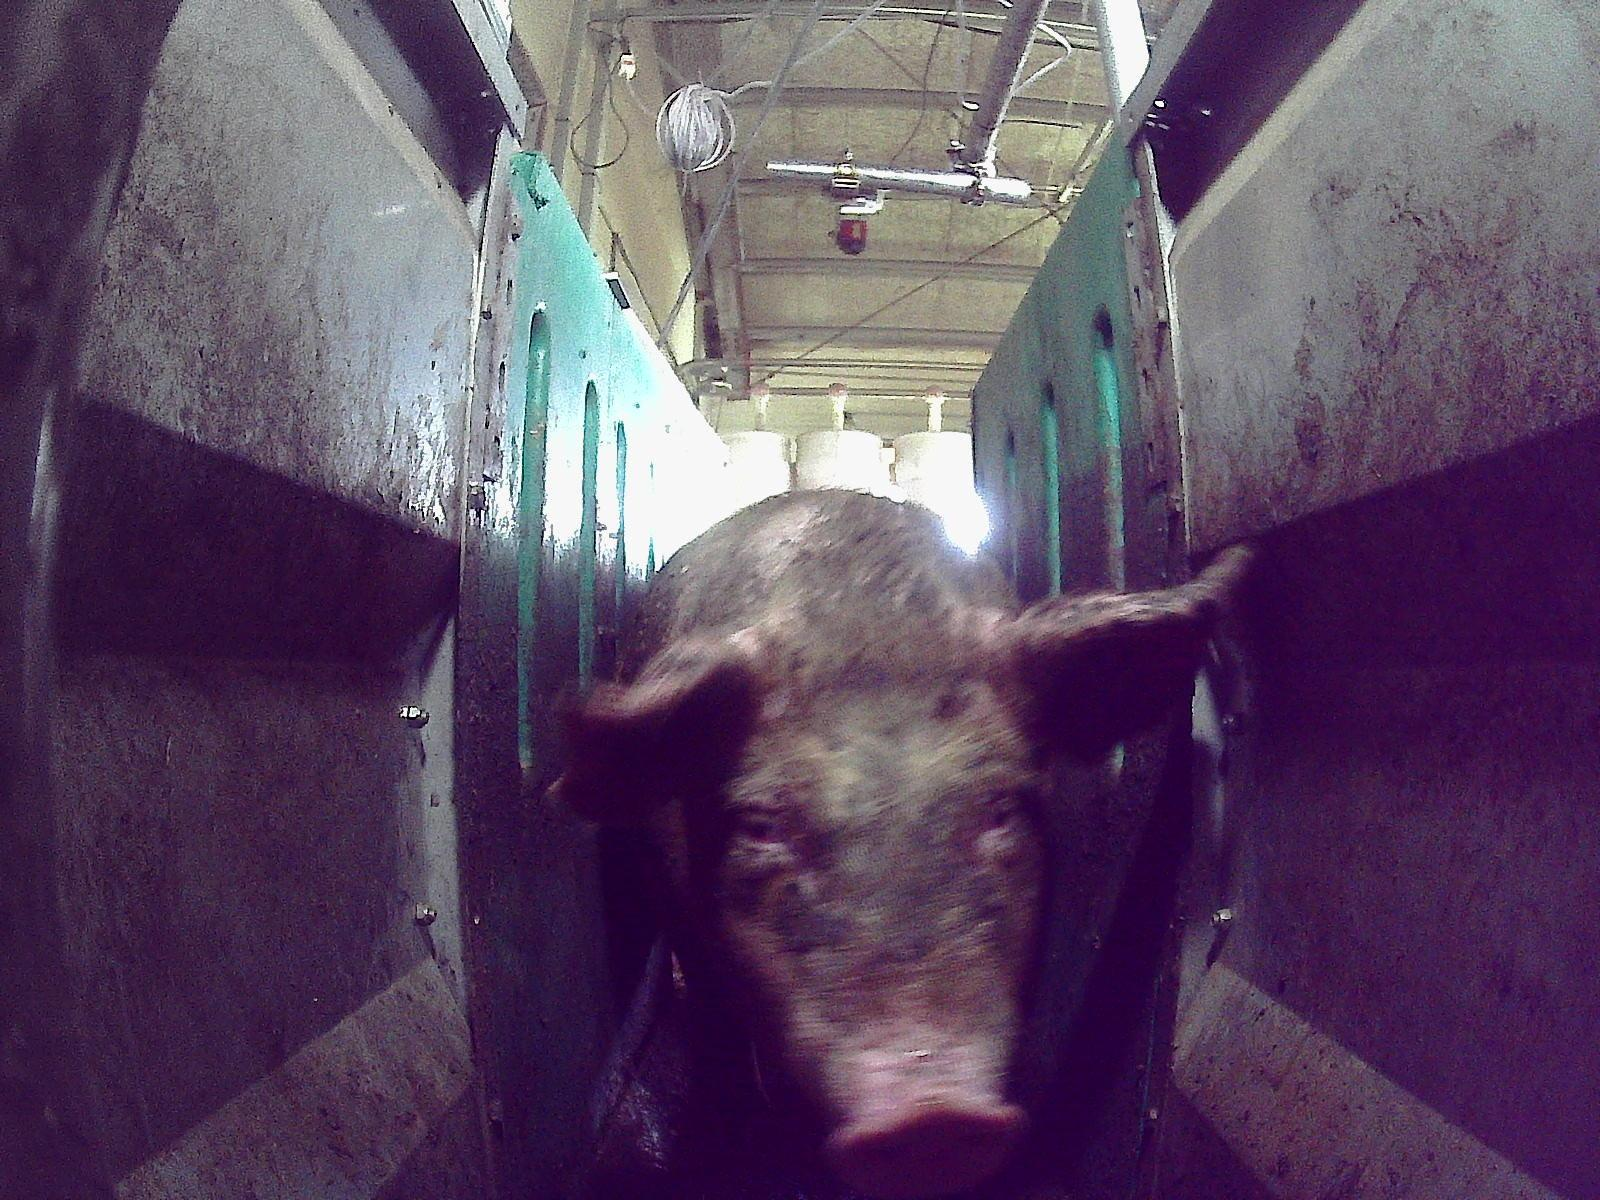Face: (706, 644, 1043, 1198)
